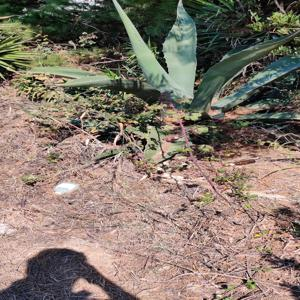plastic bottle: (52, 177, 82, 198)
